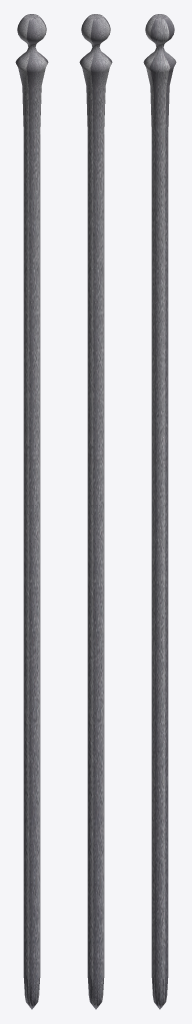
File: support flag.FBX
3 views of the same model, side by side, from view 1: azimuth 30°, elevation 25°; view 2: azimuth 210°, elevation 25°; view 3: azimuth 270°, elevation 25° (orthographic).
Parts seen in each view (by area): view 1: support flag; view 2: support flag; view 3: support flag.
Part boxes in pixels (bbox=[...]): support flag: bbox=[15, 14, 48, 1009]; support flag: bbox=[79, 14, 112, 1009]; support flag: bbox=[143, 14, 176, 1009].
Bounding box in the file's own units: 4.58 × 4.58 × 154.
1 material, 1 textured.
